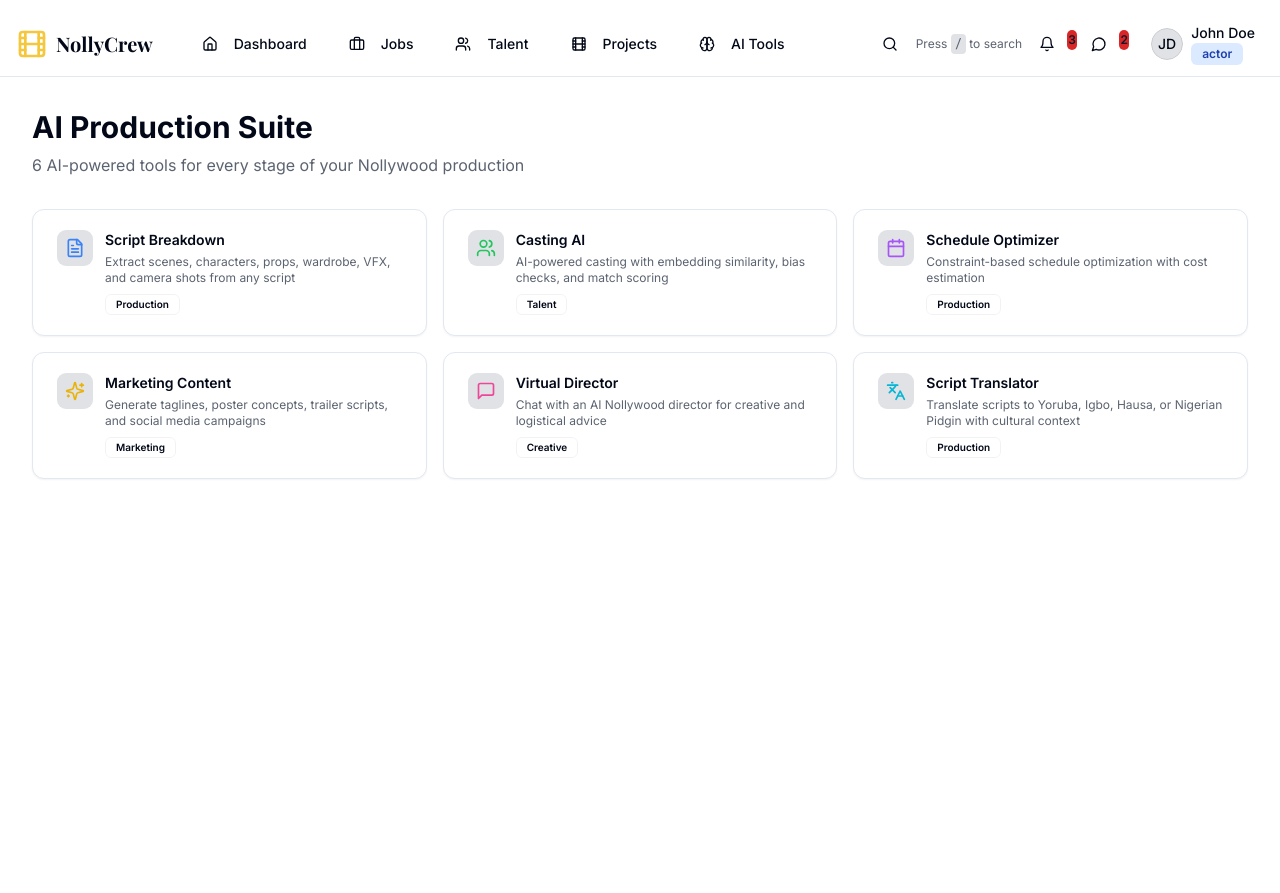
Test: AITools › should switch between different AI tools
Step 1. Click the heading "Script Breakdown" → (165,240), box [105,231,225,248]
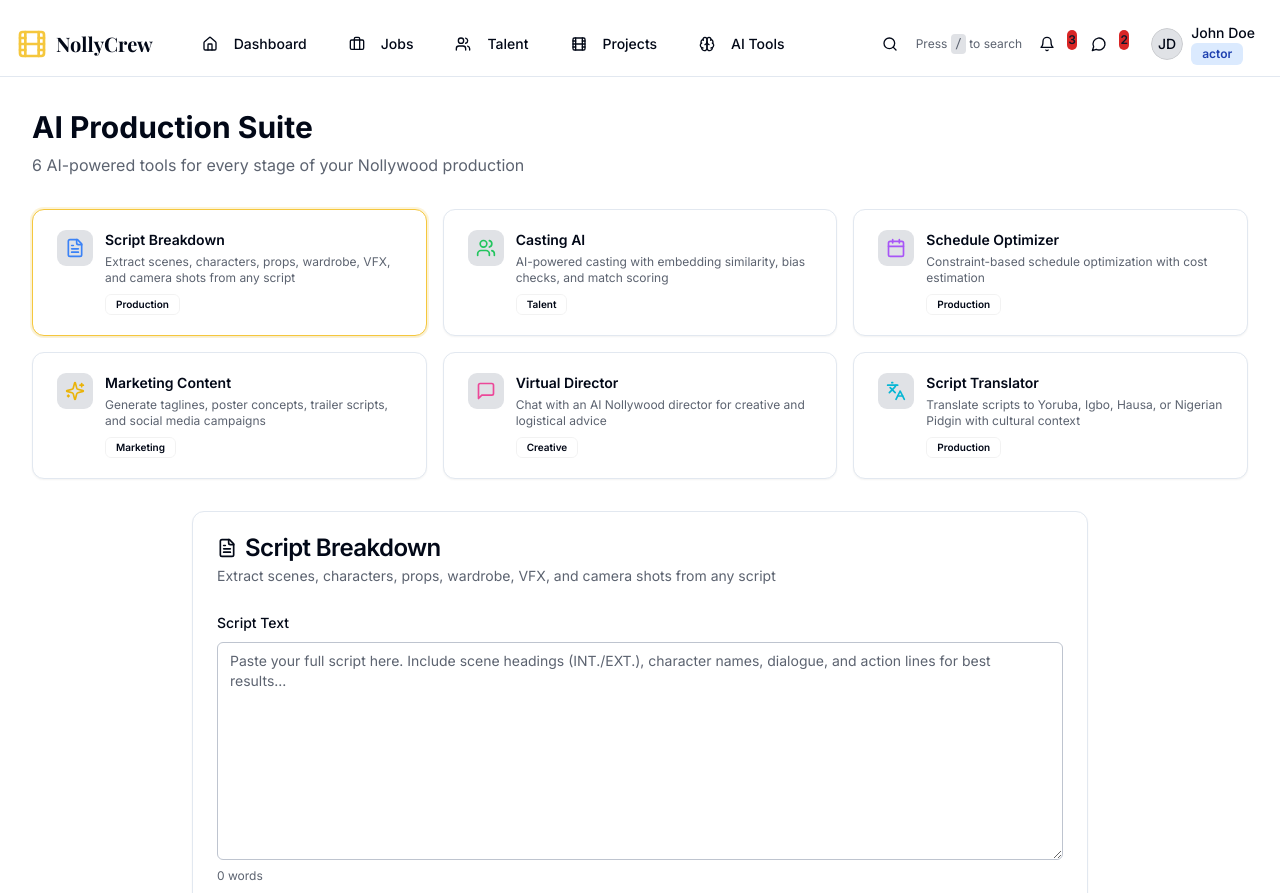
expect the text box with placeholder "Paste your full script here" is shown: met, box [217,642,1063,860]
// Click on Casting AI card
Step 2. Click the heading "Casting AI" → (550,240), box [516,231,585,248]
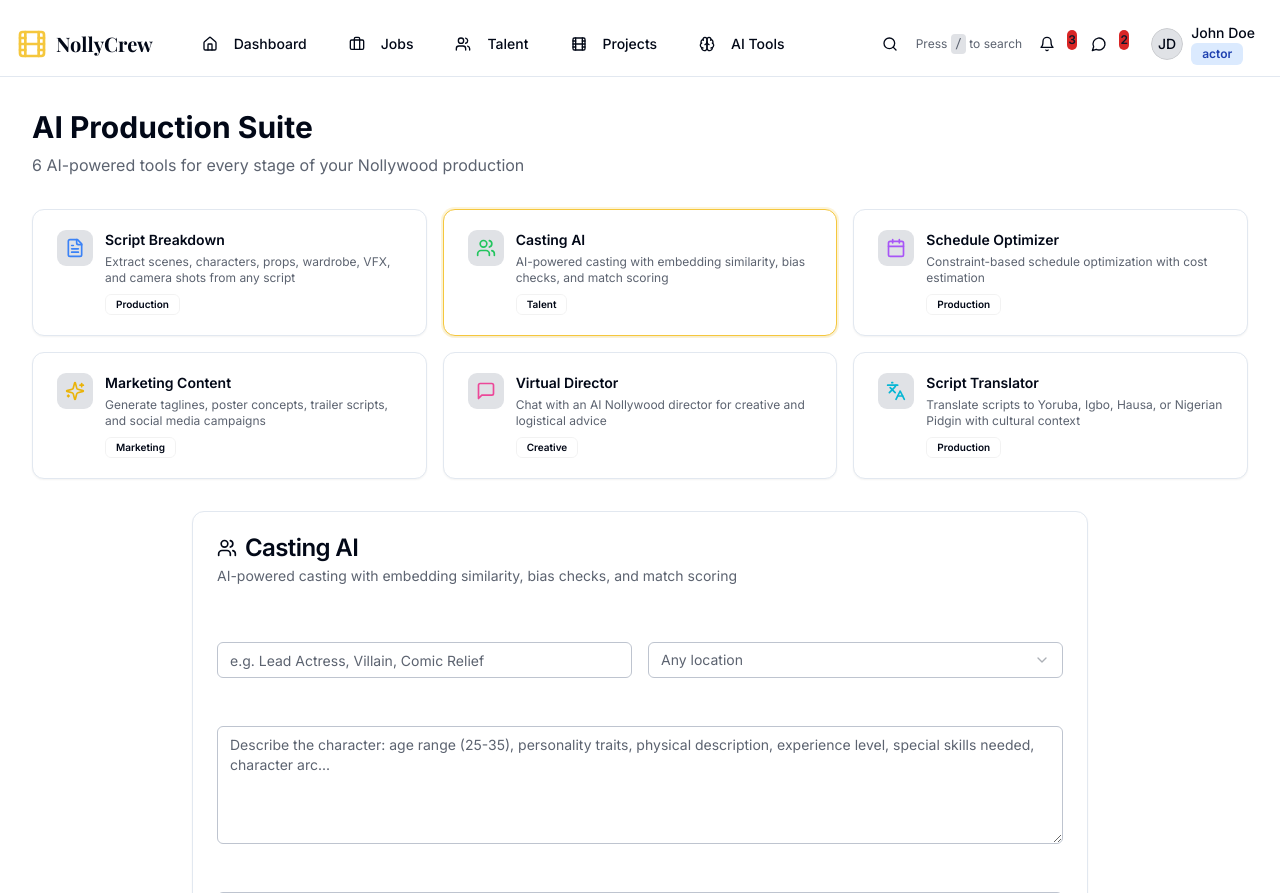
expect the field with placeholder "e.g. Lead Actress, Villain, Comic Relief" is shown: met, box [217,642,632,678]
